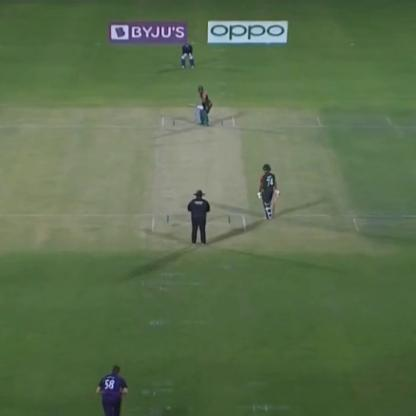pitch: (147, 115, 248, 245)
